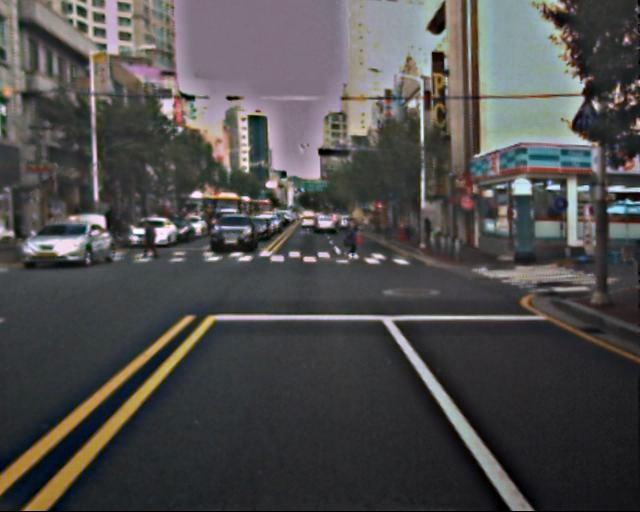person: (343, 217, 362, 264), (138, 218, 157, 265)
